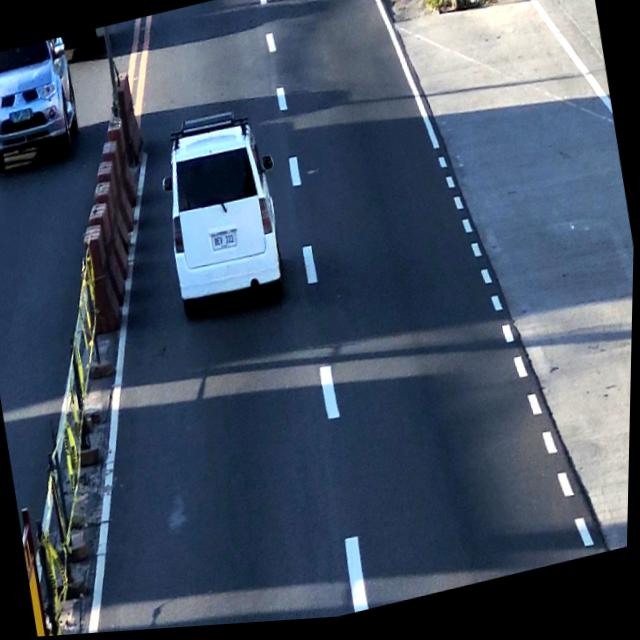Car: (157, 110, 285, 315)
License-Plate: (209, 229, 241, 257)
